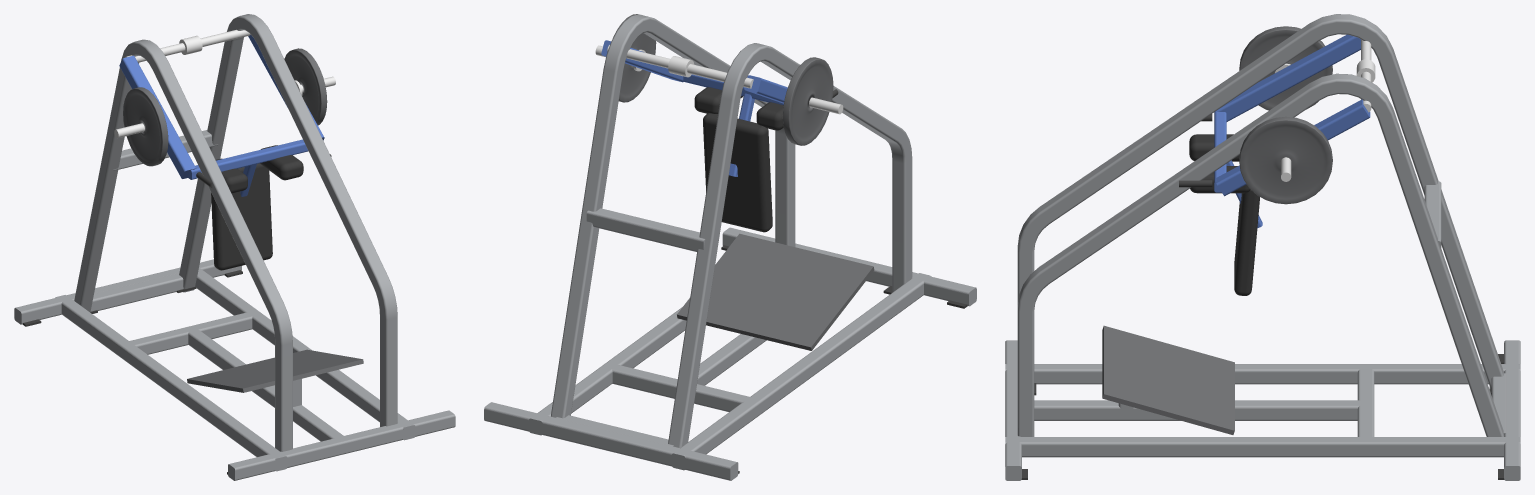
The picture shows the model from 3 angles, left to right: view 1: azimuth 30°, elevation 25°; view 2: azimuth 150°, elevation 25°; view 3: azimuth 270°, elevation 25°; orthographic projection. The views are drawn at different scales.
Parts seen in each view (by area): view 1: base, side_frame_left_tube, side_frame_right_tube, lever, frame, backrest_pad, foot_plate, lever_bar, shoulder_pad (×2), lever_axle, rear_crossbar; view 2: base, side_frame_left_tube, foot_plate, side_frame_right_tube, lever, backrest_pad, frame, rear_crossbar, lever_bar (×2), shoulder_pad (×2), lever_axle; view 3: base, side_frame_right_tube, side_frame_left_tube, foot_plate, lever, lever_bar (×2), backrest_pad, frame, rear_crossbar, shoulder_pad.
Boxes of the visible parts, box(x1,y1,x2,y2) form: base: box(14, 259, 455, 480); side_frame_left_tube: box(74, 39, 292, 451); side_frame_right_tube: box(179, 14, 397, 426); lever: box(123, 48, 327, 196); frame: box(90, 273, 255, 354); backrest_pad: box(211, 163, 272, 270); foot_plate: box(187, 349, 363, 392); lever_bar: box(119, 55, 196, 178); shoulder_pad (×2): box(215, 145, 303, 193); lever_axle: box(125, 29, 250, 62); rear_crossbar: box(113, 130, 217, 170); base: box(484, 227, 976, 480); side_frame_left_tube: box(668, 43, 912, 447); foot_plate: box(677, 233, 874, 350); side_frame_right_tube: box(551, 14, 795, 418); lever: box(612, 14, 833, 176); backrest_pad: box(703, 113, 772, 232); frame: box(556, 364, 754, 446); rear_crossbar: box(586, 208, 705, 251); lever_bar (×2): box(601, 40, 787, 103); shoulder_pad (×2): box(694, 87, 783, 130); lever_axle: box(607, 45, 753, 88); base: box(1005, 340, 1520, 480); side_frame_right_tube: box(1017, 73, 1504, 436); side_frame_left_tube: box(1017, 14, 1503, 388); foot_plate: box(1102, 325, 1234, 434); lever: box(1214, 26, 1332, 228); lever_bar (×2): box(1216, 34, 1370, 196); backrest_pad: box(1234, 190, 1259, 295); frame: box(1357, 369, 1506, 439); rear_crossbar: box(1424, 181, 1441, 250); shoulder_pad: box(1189, 134, 1239, 161).
Size of the model in its own units: 1.43 by 1.98 by 2.48.
